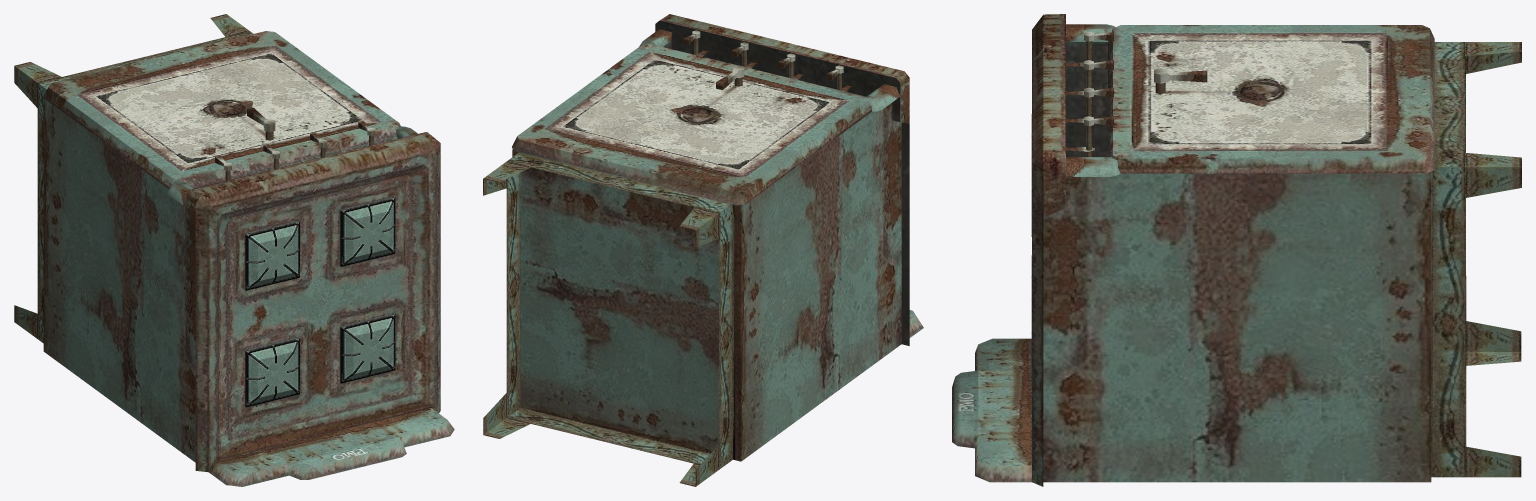
Rendered from prop_stove01.glb.
The picture shows the model from 3 angles, left to right: view 1: azimuth 30°, elevation 25°; view 2: azimuth 150°, elevation 25°; view 3: azimuth 270°, elevation 25°; orthographic projection. The views are drawn at different scales.
Size of the model in its own units: 30 by 33.19 by 49.95.
1 material, 1 textured.
